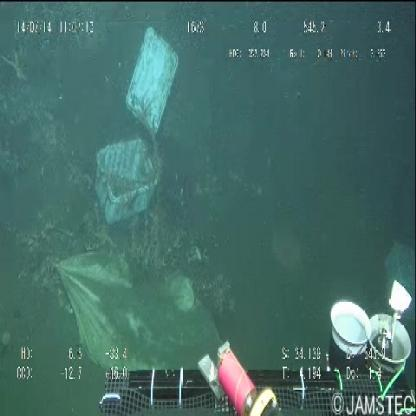Rov: (89, 277, 416, 416)
Rác: (89, 19, 185, 234)
